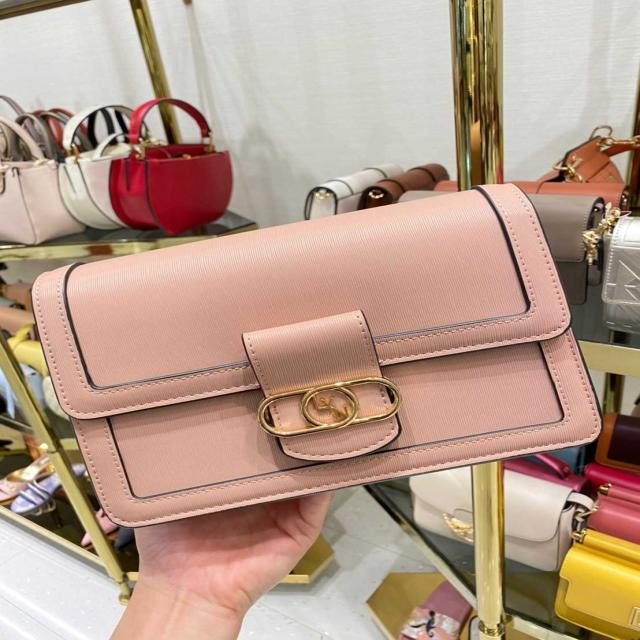Handbag: (34, 181, 604, 531)
